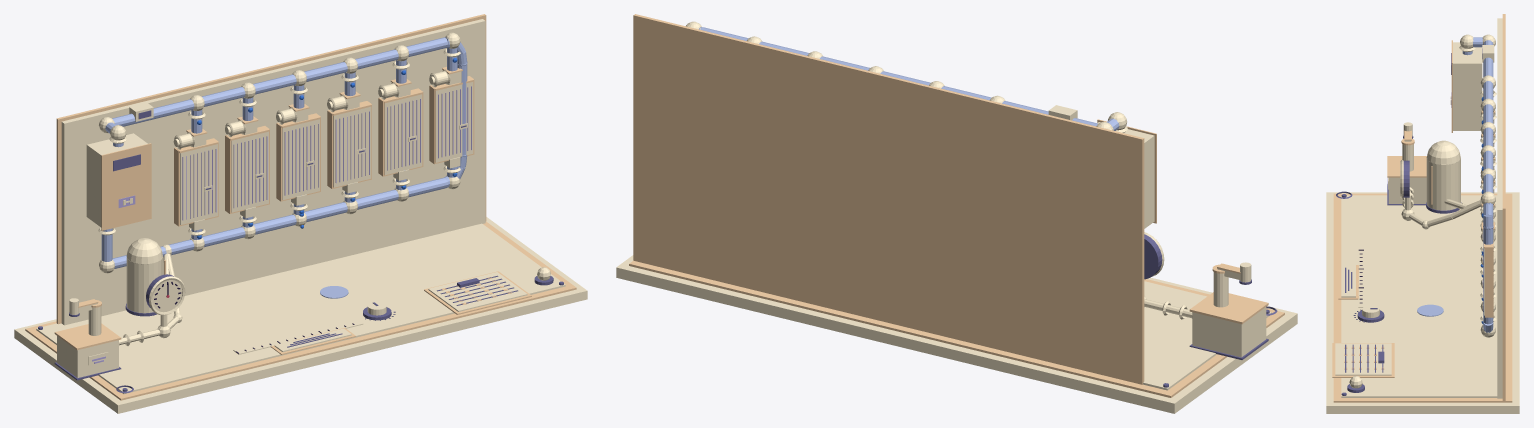
Rendered from reception.glb.
3 views of the same model, side by side, from view 1: azimuth 30°, elevation 25°; view 2: azimuth 150°, elevation 25°; view 3: azimuth 270°, elevation 25° (orthographic). The views are drawn at different scales.
Visible parts, largest first — view 1: reception_cream, reception_peach, reception_bleu, reception_sand, reception_steel; view 2: reception_peach, reception_cream, reception_bleu, reception_steel; view 3: reception_cream, reception_peach, reception_bleu, reception_steel, anim_pulse_flaque.
Boxes of the visible parts, box(x1,y1,x2,y2) form: reception_cream: box(14, 19, 587, 413); reception_peach: box(25, 14, 576, 400); reception_bleu: box(101, 37, 467, 268); reception_sand: box(92, 86, 471, 363); reception_steel: box(38, 110, 563, 393); reception_peach: box(629, 14, 1284, 397); reception_cream: box(616, 21, 1297, 413); reception_bleu: box(699, 27, 1119, 130); reception_steel: box(1144, 234, 1277, 387); reception_cream: box(1326, 18, 1519, 413); reception_peach: box(1332, 14, 1512, 402); reception_bleu: box(1462, 37, 1493, 332); reception_steel: box(1336, 48, 1482, 395); anim_pulse_flaque: box(1417, 304, 1443, 316).
Bounding box in the file's own units: 3.46 × 1.5 × 1.3.
